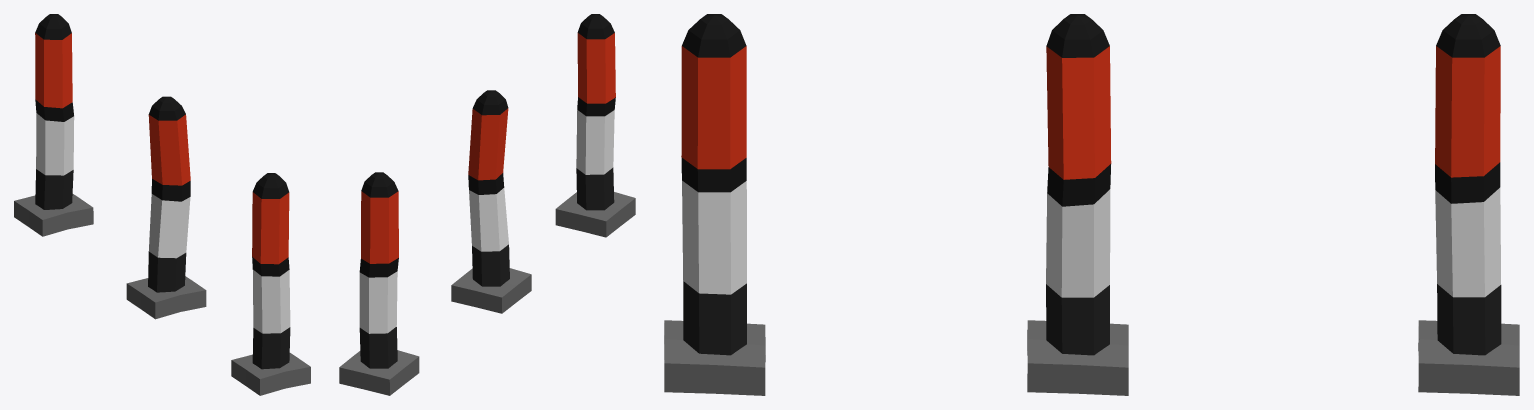
The model's file is pembatas jalan ujung jalan silinder.fbx.
3 views of the same model, side by side, from view 1: azimuth 30°, elevation 25°; view 2: azimuth 150°, elevation 25°; view 3: azimuth 270°, elevation 25° (orthographic). The views are drawn at different scales.
Parts seen in each view (by area): view 1: Sphere.001, Sphere.002, Sphere; view 2: Sphere.002, Sphere, Sphere.001; view 3: Sphere.002, Sphere, Sphere.001.
Boxes of the visible parts, x1,y1,x2,y2 form: Sphere.001: [126, 96, 206, 319]; Sphere.002: [14, 14, 93, 236]; Sphere: [231, 173, 310, 395]; Sphere.002: [339, 172, 419, 395]; Sphere: [555, 14, 635, 237]; Sphere.001: [451, 90, 531, 313]; Sphere.002: [1418, 14, 1519, 395]; Sphere: [664, 14, 765, 395]; Sphere.001: [1027, 14, 1128, 395].
Size of the model in its own units: 50.3 by 193 by 418.
